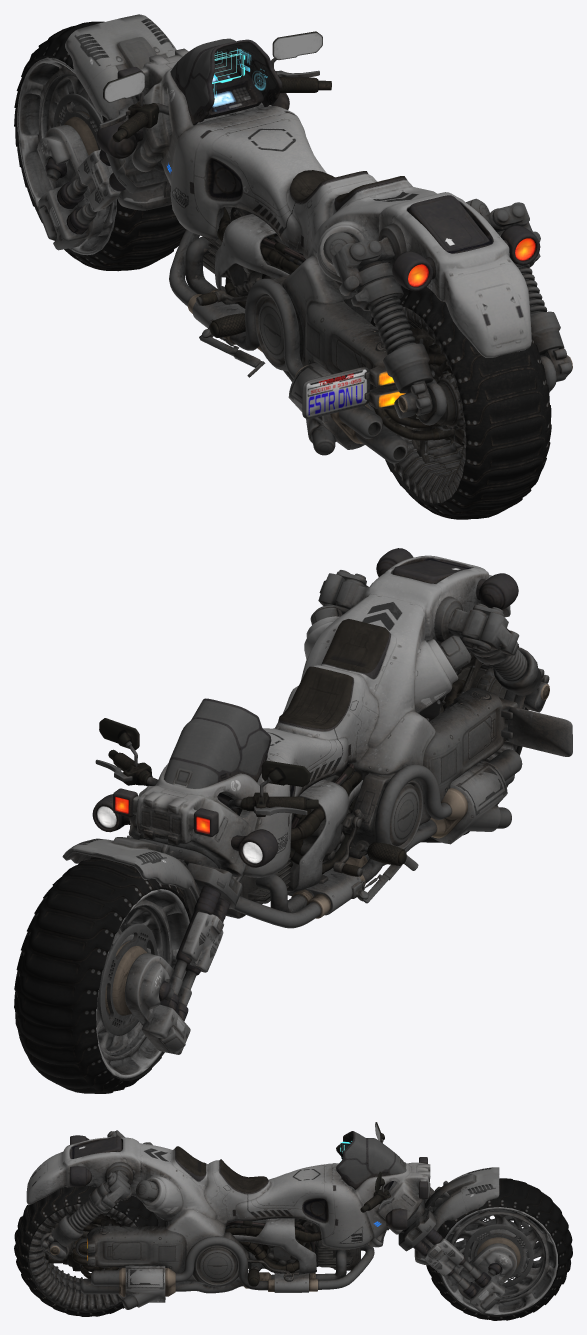
File: the_terminus_enforcer.glb
3 views of the same model, one above another, from view 1: azimuth 30°, elevation 25°; view 2: azimuth 150°, elevation 25°; view 3: azimuth 270°, elevation 25° (orthographic). The views are drawn at different scales.
Visible parts, largest first — view 1: Terminus_Enforcer; view 2: Terminus_Enforcer; view 3: Terminus_Enforcer.
Boxes of the visible parts, bbox=[...] form: Terminus_Enforcer: bbox=[14, 14, 572, 519]; Terminus_Enforcer: bbox=[14, 548, 572, 1093]; Terminus_Enforcer: bbox=[14, 1122, 572, 1320].
Size of the model in its own units: 157 by 180 by 502.
Materials: 4 (4 with a texture image).
